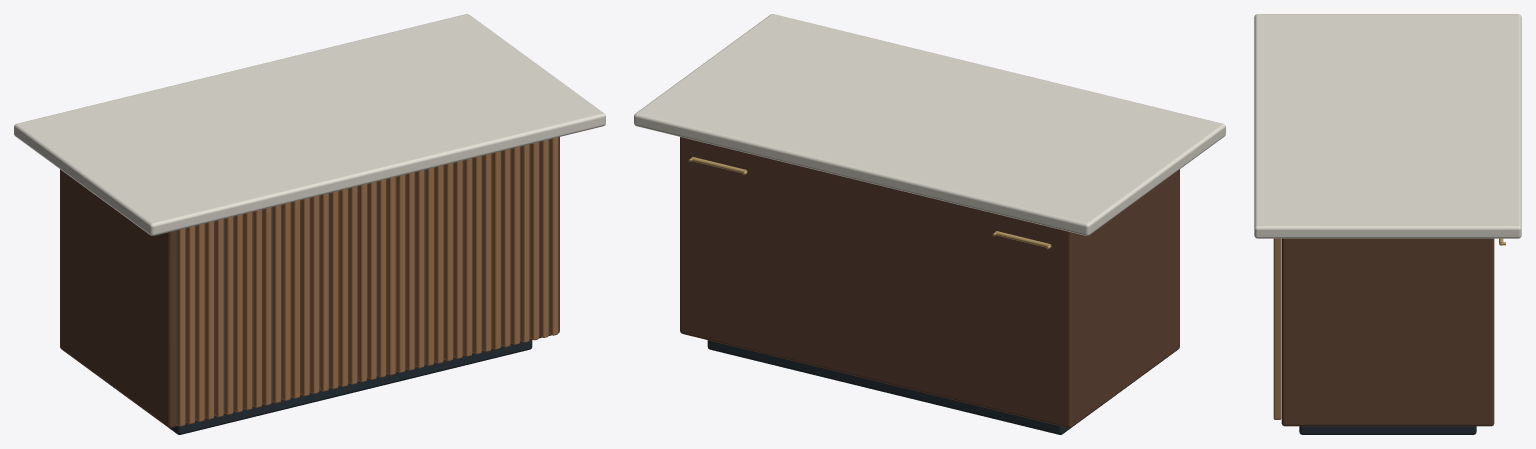
File: officeKitchenIsland.glb
The picture shows the model from 3 angles, left to right: view 1: azimuth 30°, elevation 25°; view 2: azimuth 150°, elevation 25°; view 3: azimuth 270°, elevation 25°; orthographic projection. The views are drawn at different scales.
Bounding box in the file's own units: 1.86 × 0.94 × 0.98.
